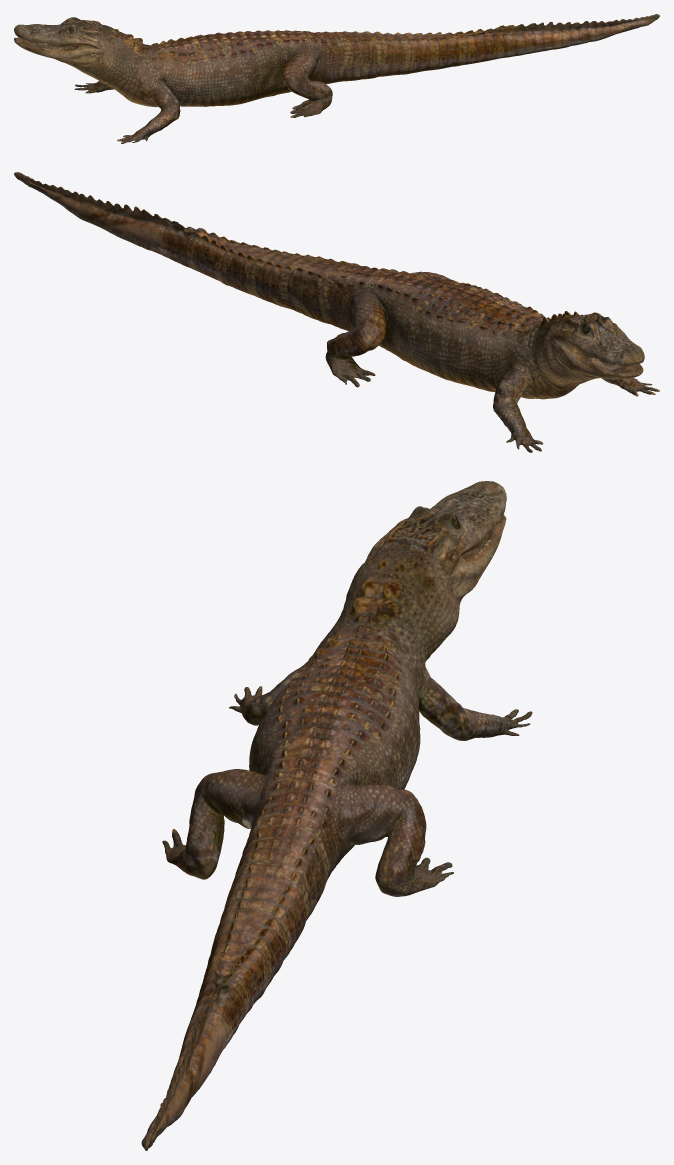
Rendered from american_alligator_nhmw-zoo-hs-15682.glb.
3 views of the same model, one above another, from view 1: azimuth 30°, elevation 25°; view 2: azimuth 150°, elevation 25°; view 3: azimuth 270°, elevation 25° (orthographic). The views are drawn at different scales.
Visible parts, largest first — view 1: Object_2, Object_3, Object_4; view 2: Object_3, Object_2, Object_4; view 3: Object_3, Object_2, Object_4.
Part boxes in pixels (bbox=[...]): Object_2: bbox=[14, 17, 644, 143]; Object_3: bbox=[14, 14, 659, 117]; Object_4: bbox=[202, 22, 637, 102]; Object_3: bbox=[14, 172, 643, 452]; Object_2: bbox=[40, 192, 659, 396]; Object_4: bbox=[206, 231, 450, 281]; Object_3: bbox=[141, 515, 532, 1150]; Object_2: bbox=[143, 481, 506, 1138]; Object_4: bbox=[147, 712, 316, 1132].
Bounding box in the file's own units: 4.06 × 0.6372 × 1.23.
1 material, 1 textured.
